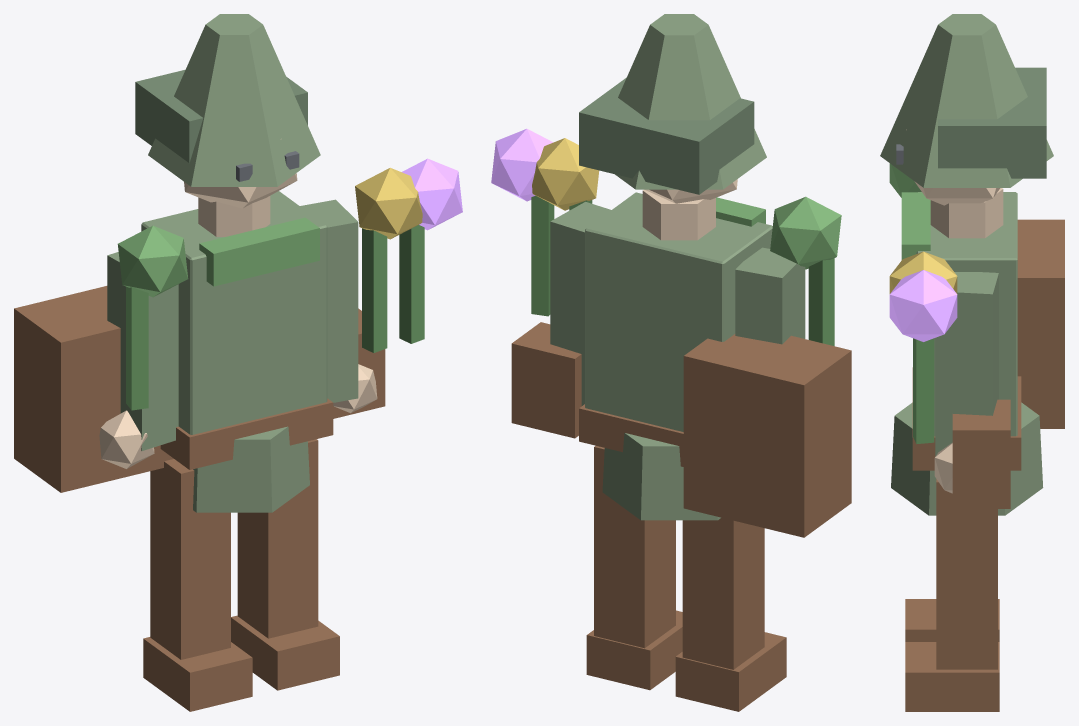
Rendered from npc_herbalist.glb.
3 renders of one model, left to right at view 1: azimuth 30°, elevation 25°; view 2: azimuth 150°, elevation 25°; view 3: azimuth 270°, elevation 25°, orthographic.
Visible parts, largest first — view 1: torso.003; view 2: torso.003; view 3: torso.003.
Boxes of the visible parts, <box> form: torso.003: <box>14,14,462,711</box>; torso.003: <box>491,14,851,711</box>; torso.003: <box>880,14,1064,711</box>.
Size of the model in its own units: 1.2 by 1.98 by 0.51.
